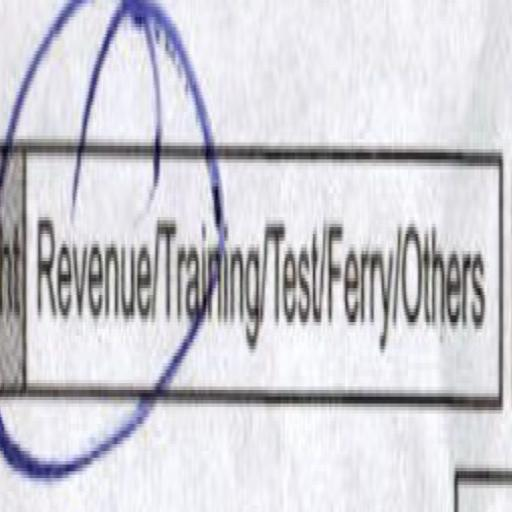check: (32, 25, 149, 500), (155, 0, 258, 403)
